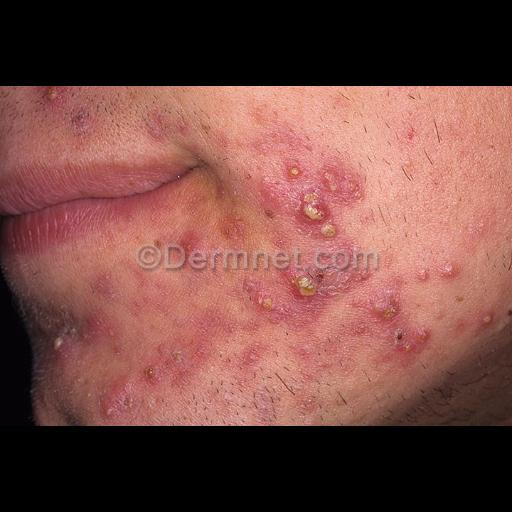Skin_Lesion: (260, 158, 368, 246), (235, 264, 281, 324), (38, 318, 82, 356), (278, 265, 322, 299), (392, 324, 430, 358), (370, 290, 404, 324), (142, 110, 170, 146), (137, 357, 165, 389), (34, 86, 70, 110), (93, 272, 121, 302), (96, 389, 122, 421), (398, 118, 420, 148), (476, 306, 498, 332), (179, 232, 203, 252), (72, 110, 90, 136), (440, 262, 462, 282)
